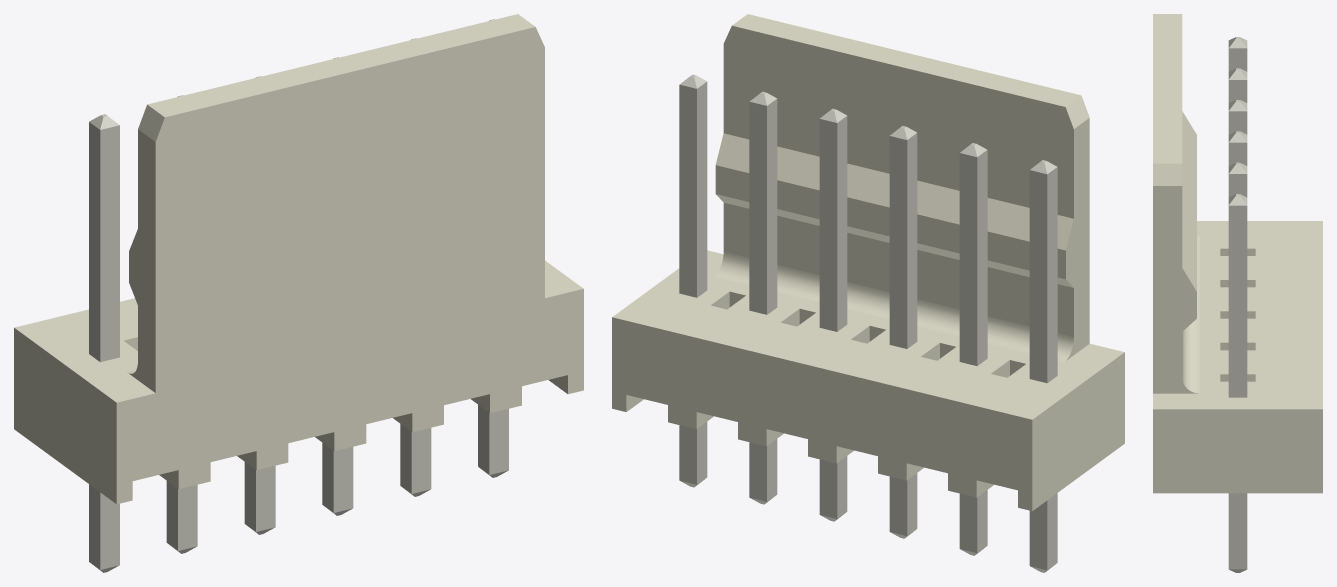
Rendered from kc-molex_kk-254_ae-6410-06a_1x06_p2.54mm_vertical.glb.
The picture shows the model from 3 angles, left to right: view 1: azimuth 30°, elevation 25°; view 2: azimuth 150°, elevation 25°; view 3: azimuth 270°, elevation 25°; orthographic projection. The views are drawn at different scales.
Visible parts, largest first — view 1: 0.75_0.75_0.5833333333333334_0, 0.6666666666666666_0.6666666666666666_0.5833333333333334_0.8; view 2: 0.75_0.75_0.5833333333333334_0, 0.6666666666666666_0.6666666666666666_0.5833333333333334_0.8; view 3: 0.75_0.75_0.5833333333333334_0, 0.6666666666666666_0.6666666666666666_0.5833333333333334_0.8.
Part boxes in pixels (x1,y1,x2,y2): 0.75_0.75_0.5833333333333334_0: (14, 14, 583, 504); 0.6666666666666666_0.6666666666666666_0.5833333333333334_0.8: (89, 19, 508, 572); 0.75_0.75_0.5833333333333334_0: (612, 14, 1124, 511); 0.6666666666666666_0.6666666666666666_0.5833333333333334_0.8: (679, 74, 1057, 572); 0.75_0.75_0.5833333333333334_0: (1153, 14, 1322, 493); 0.6666666666666666_0.6666666666666666_0.5833333333333334_0.8: (1228, 37, 1247, 572).
Bounding box in the file's own units: 1.52 × 1.53 × 0.5799.
